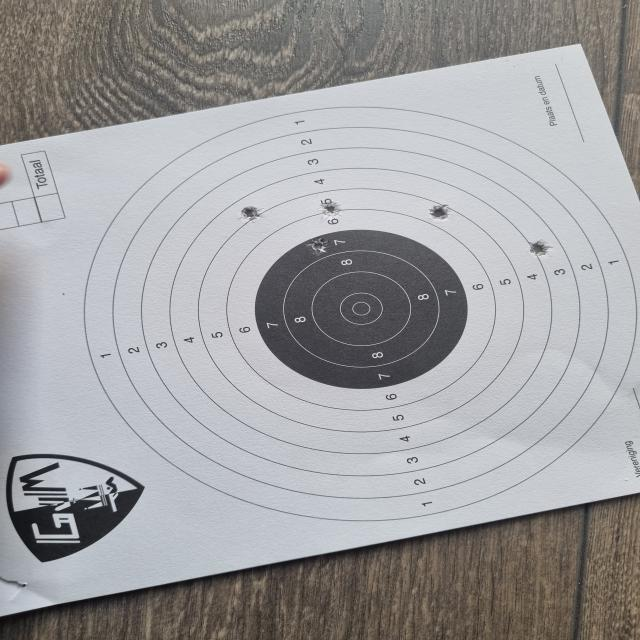5: (526, 240, 554, 255)
6: (430, 204, 450, 220), (240, 207, 262, 220)
7: (320, 198, 342, 216)
8: (304, 238, 331, 254)
Black Contour: (258, 230, 468, 386)
Target: (85, 106, 638, 520)
